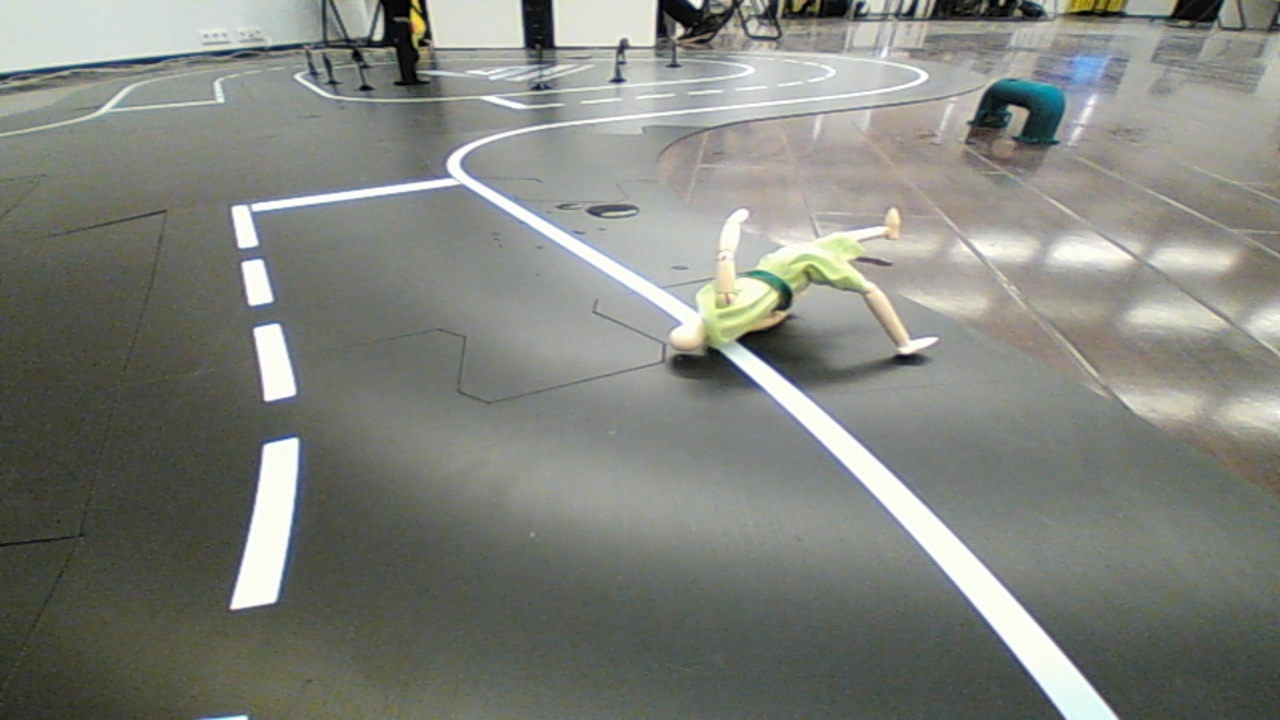Road works: (630, 200, 965, 376)
